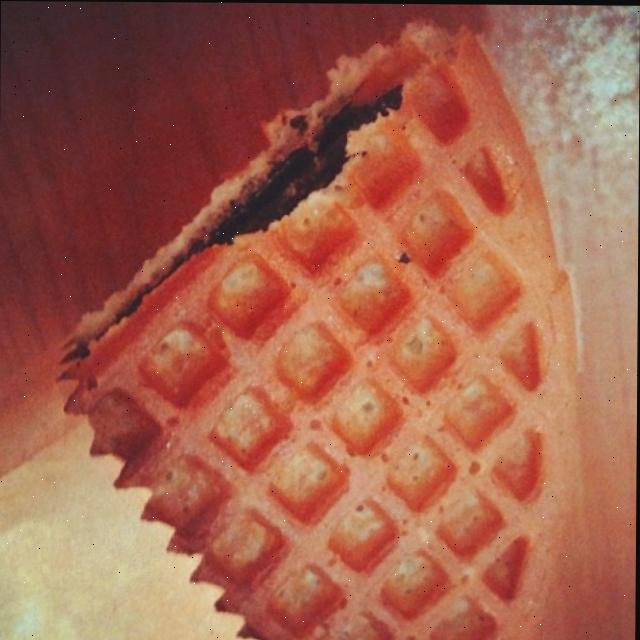炸货点心: (0, 2, 640, 640)
蛋糕甜品: (0, 2, 640, 640)
